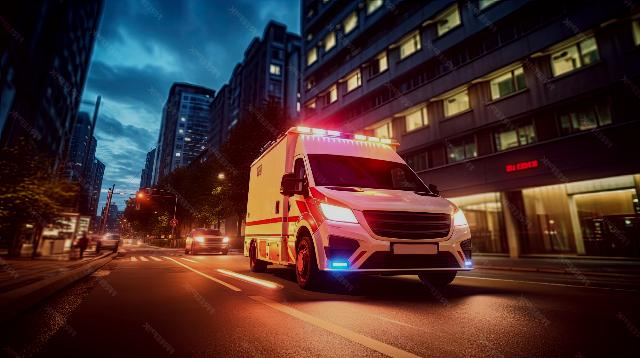ambulance: (244, 127, 473, 291)
